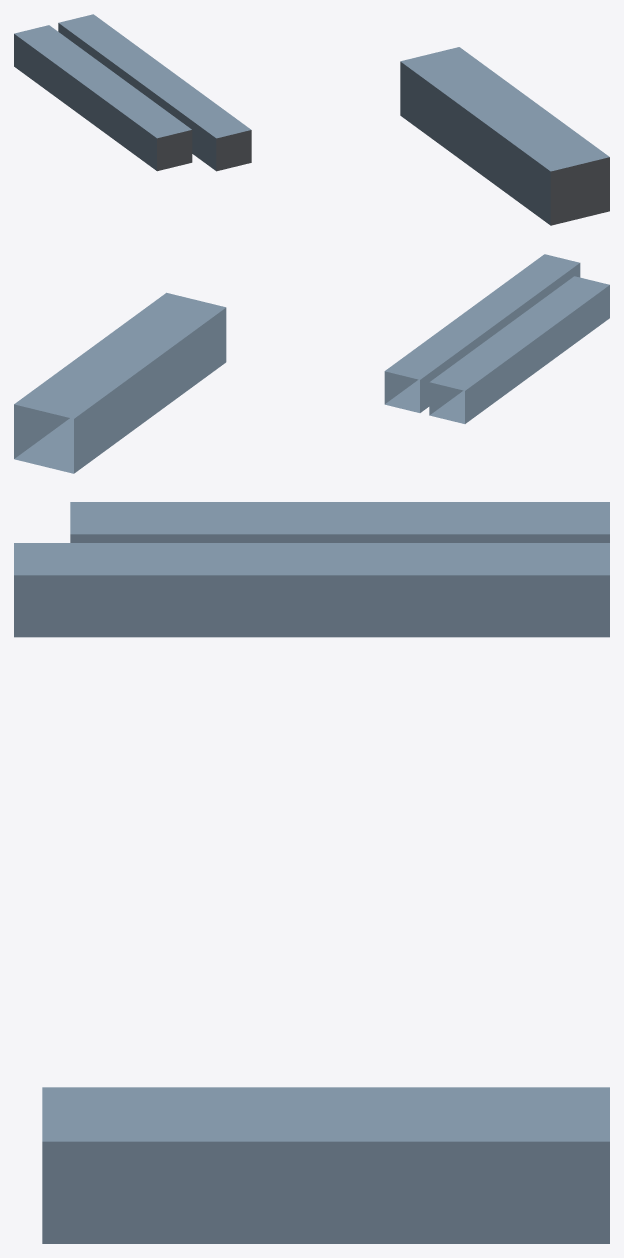
Rendered from island_bldg_10_09.obj.
3 renders of one model, top to bottom at view 1: azimuth 30°, elevation 25°; view 2: azimuth 150°, elevation 25°; view 3: azimuth 270°, elevation 25°, orthographic. The views are drawn at different scales.
Visible parts, largest first — view 1: island_bldg_10_09; view 2: island_bldg_10_09; view 3: island_bldg_10_09.
Part boxes in pixels (bbox=[...]): island_bldg_10_09: bbox=[14, 14, 609, 225]; island_bldg_10_09: bbox=[14, 254, 609, 473]; island_bldg_10_09: bbox=[14, 502, 609, 1243].
Size of the model in its own units: 241 by 91 by 148.
